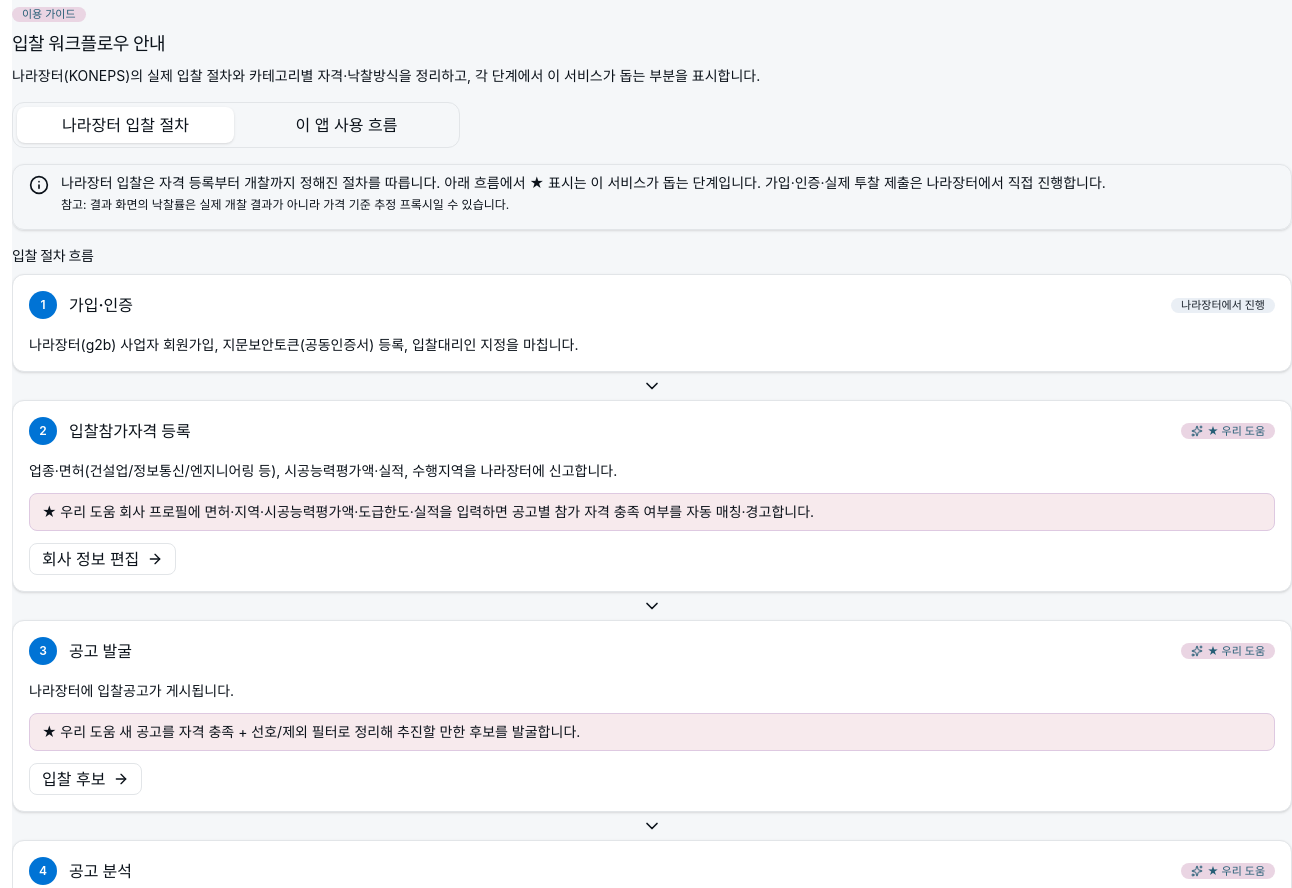
Test: GuideScreen › toggles to the app workflow tab and shows the eight steps
The image size is (1292, 888).
Click the tab "이 앱 사용 흐름": (346, 125) [238,107,455,143]
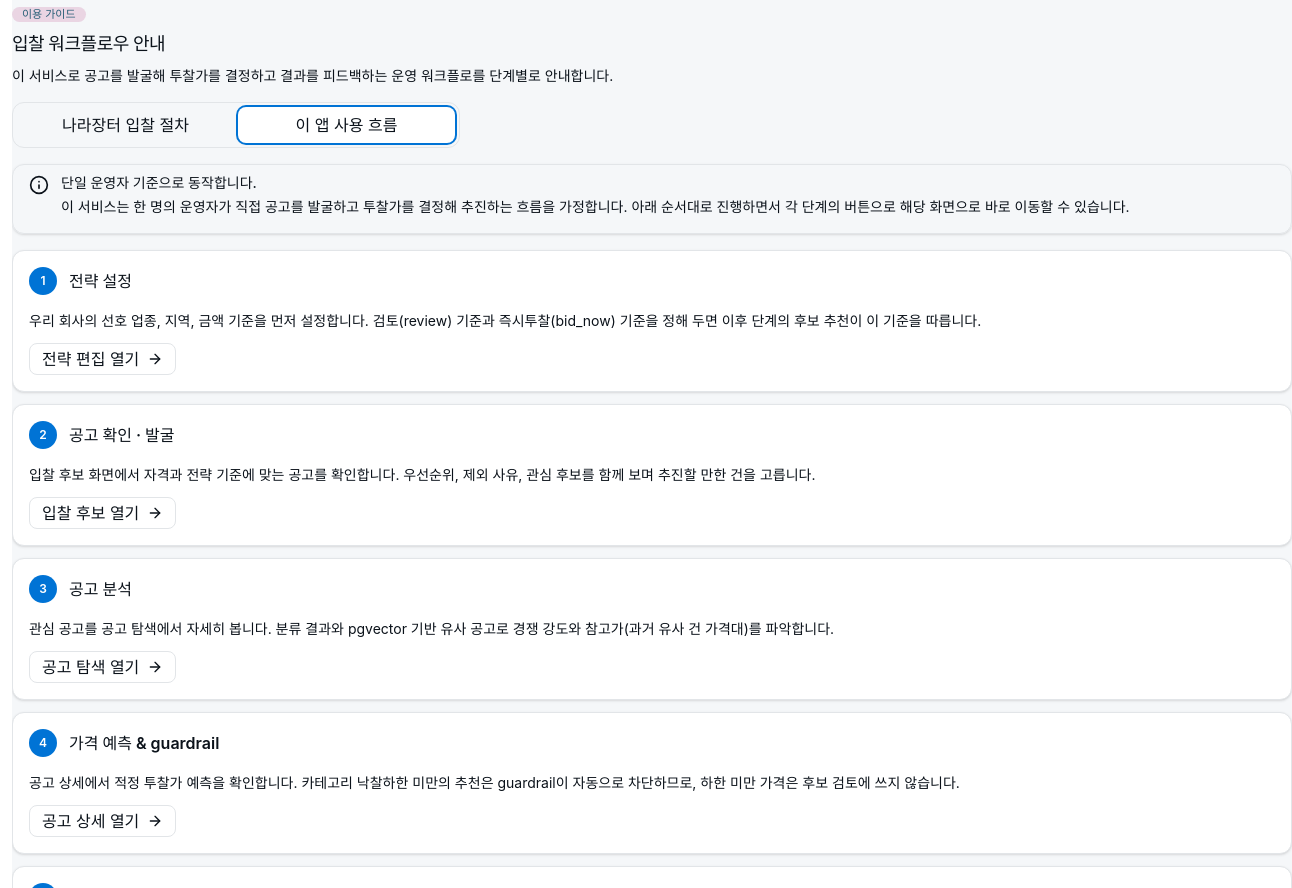
expect the number of list items is 8: met
expect the heading "전략 설정" is shown: met, box [69,273,132,289]
